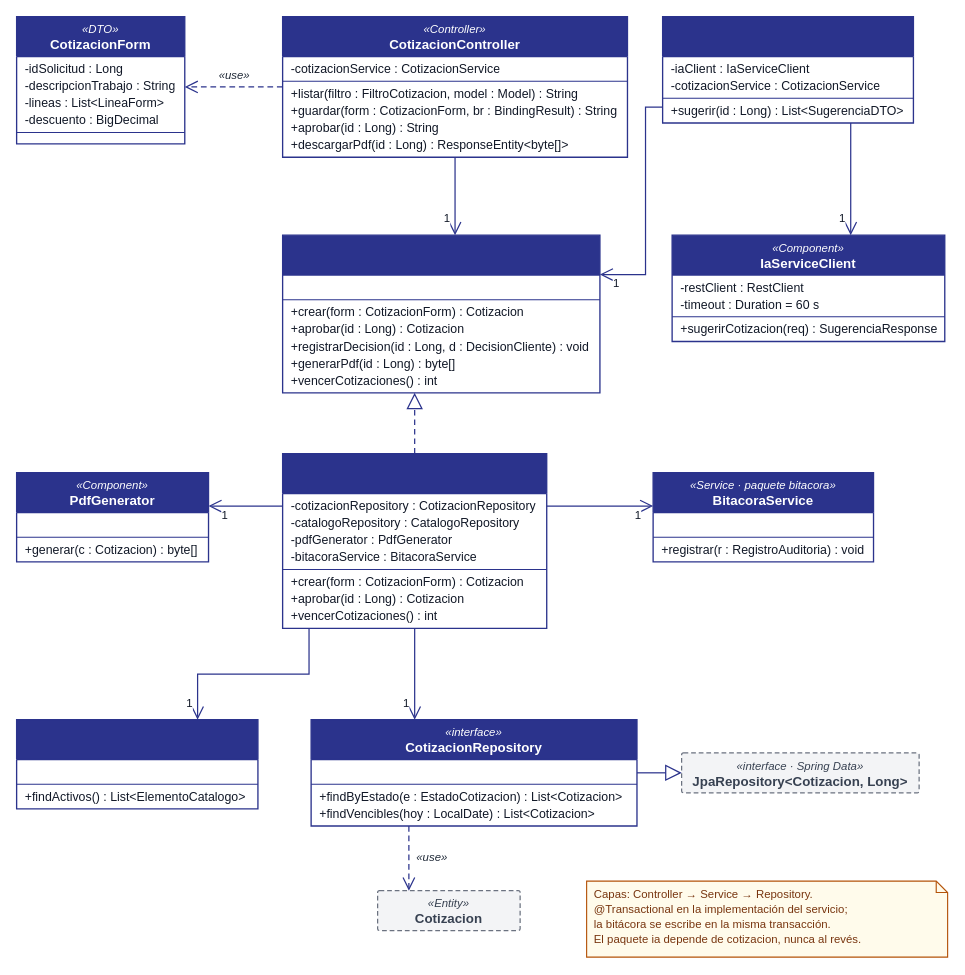
This 965x975 diagram has some shape labels left out. The box of each missing label's shape, as (x1, y1, x2, y2) in pixels:
«interface» CatalogoRepository: (15, 718, 258, 809)
«interface» CotizacionService: (281, 234, 600, 393)
«RestController · paquete ia» SugerenciaCotizacionController: (661, 15, 914, 123)
«Service» CotizacionServiceImpl: (281, 452, 547, 629)
